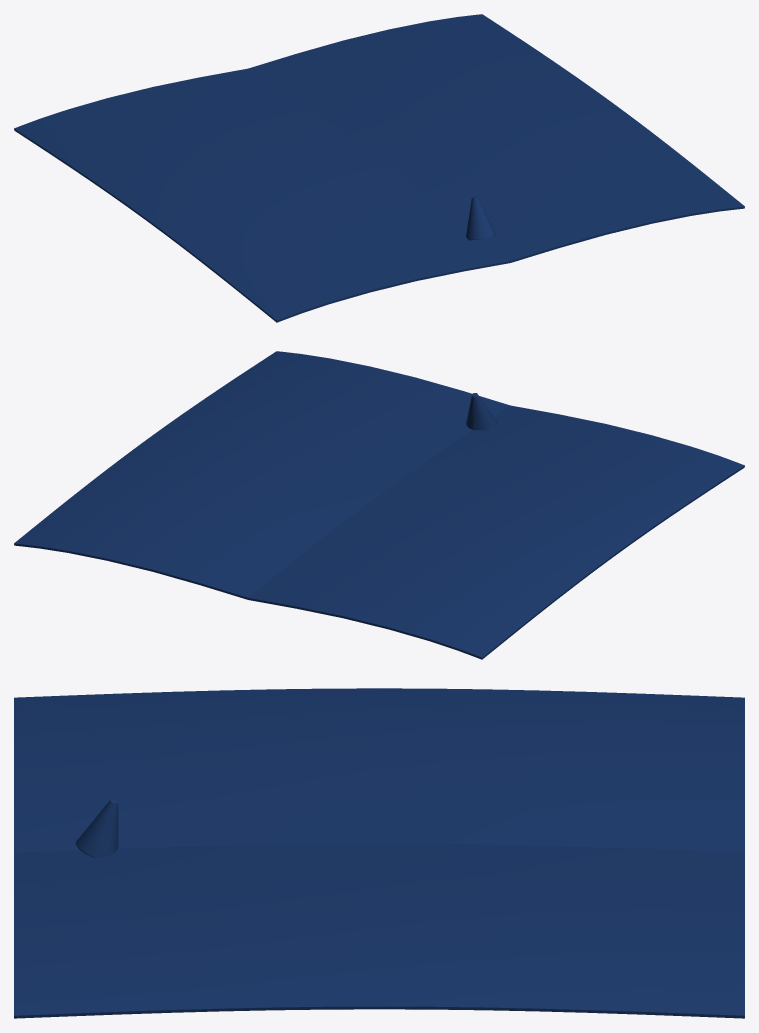
The model's file is roof_panel.glb.
3 renders of one model, top to bottom at view 1: azimuth 30°, elevation 25°; view 2: azimuth 150°, elevation 25°; view 3: azimuth 270°, elevation 25°, orthographic. The views are drawn at different scales.
Parts seen in each view (by area): view 1: GEO_Roof_Panel; view 2: GEO_Roof_Panel; view 3: GEO_Roof_Panel.
Boxes of the visible parts, x1,y1,x2,y2 form: GEO_Roof_Panel: [14, 14, 744, 322]; GEO_Roof_Panel: [14, 351, 744, 659]; GEO_Roof_Panel: [14, 688, 744, 1018].
Bounding box in the file's own units: 1.07 × 0.0938 × 1.04.
